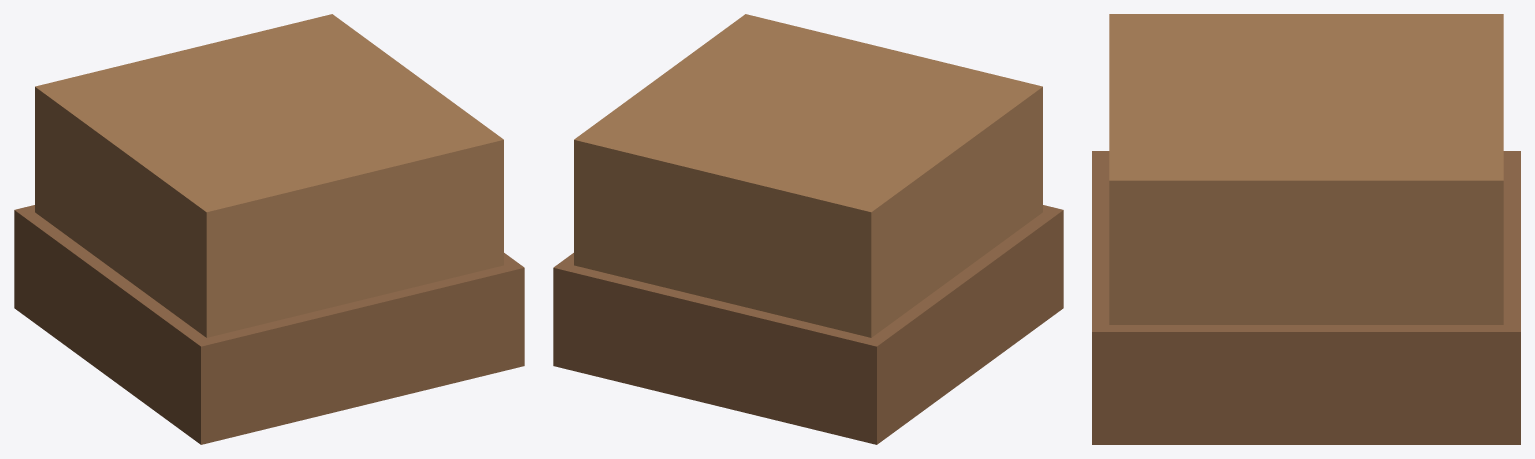
The model's file is ladino_manga_inf.glb.
3 renders of one model, left to right at view 1: azimuth 30°, elevation 25°; view 2: azimuth 150°, elevation 25°; view 3: azimuth 270°, elevation 25°, orthographic. The views are drawn at different scales.
Parts seen in each view (by area): view 1: ladino_manga_inf; view 2: ladino_manga_inf; view 3: ladino_manga_inf.
Boxes of the visible parts, left/top/right/bottom form: ladino_manga_inf: left=14, top=14, right=524, bottom=444; ladino_manga_inf: left=553, top=14, right=1063, bottom=444; ladino_manga_inf: left=1092, top=14, right=1520, bottom=444.
Size of the model in its own units: 0.31 by 0.21 by 0.31.
